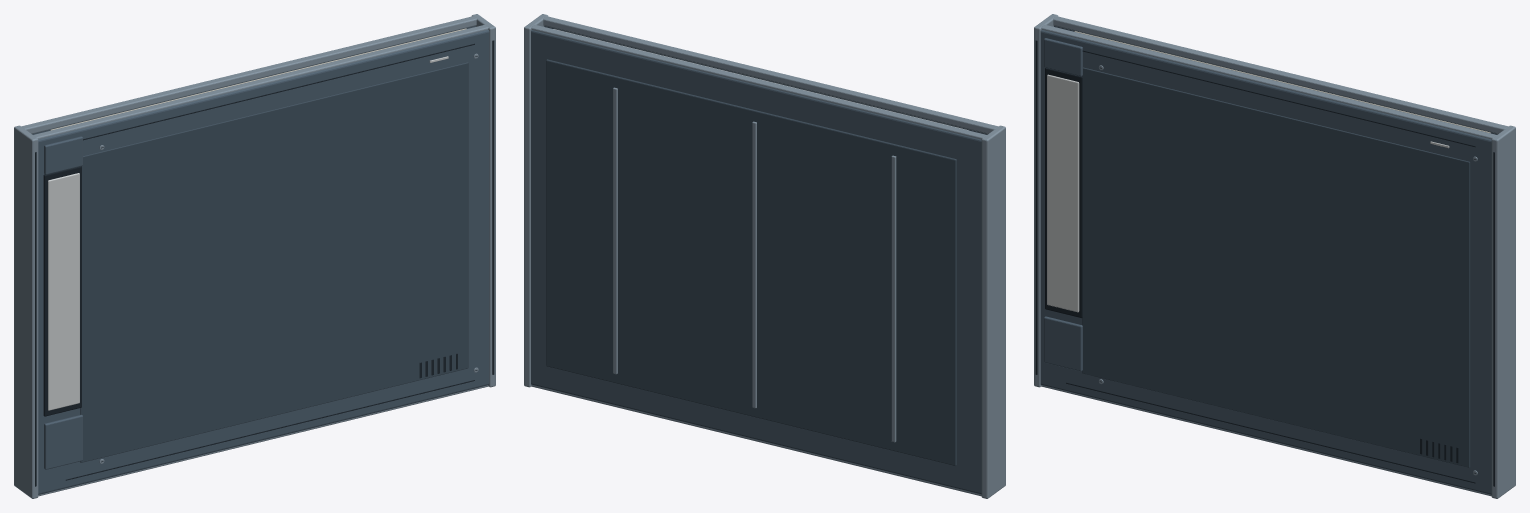
The model's file is archive-metal.glb.
3 views of the same model, side by side, from view 1: azimuth 30°, elevation 25°; view 2: azimuth 150°, elevation 25°; view 3: azimuth 330°, elevation 25° (orthographic).
Visible parts, largest first — view 1: AM_InsetSteel, AM_BlueSteel, AM_MachinedEdge, AM_SilverPlate, AM_Gasket, AM_ArchiveCore; view 2: AM_InsetSteel, AM_BlueSteel, AM_MachinedEdge; view 3: AM_InsetSteel, AM_BlueSteel, AM_MachinedEdge, AM_SilverPlate, AM_Gasket, AM_ArchiveCore.
Part boxes in pixels (left/top/right/bottom): AM_InsetSteel: left=80, top=62, right=468, bottom=462; AM_BlueSteel: left=32, top=26, right=489, bottom=494; AM_MachinedEdge: left=14, top=14, right=495, bottom=498; AM_SilverPlate: left=48, top=56, right=448, bottom=410; AM_Gasket: left=35, top=40, right=494, bottom=486; AM_ArchiveCore: left=50, top=28, right=466, bottom=130; AM_InsetSteel: left=546, top=59, right=956, bottom=466; AM_BlueSteel: left=531, top=26, right=987, bottom=494; AM_MachinedEdge: left=524, top=14, right=1005, bottom=498; AM_InsetSteel: left=1082, top=67, right=1470, bottom=467; AM_BlueSteel: left=1040, top=26, right=1497, bottom=494; AM_MachinedEdge: left=1034, top=14, right=1515, bottom=498; AM_SilverPlate: left=1047, top=74, right=1449, bottom=312; AM_Gasket: left=1035, top=40, right=1494, bottom=486; AM_ArchiveCore: left=1074, top=31, right=1490, bottom=133.
Size of the model in its own units: 5 by 3.7 by 0.41.
